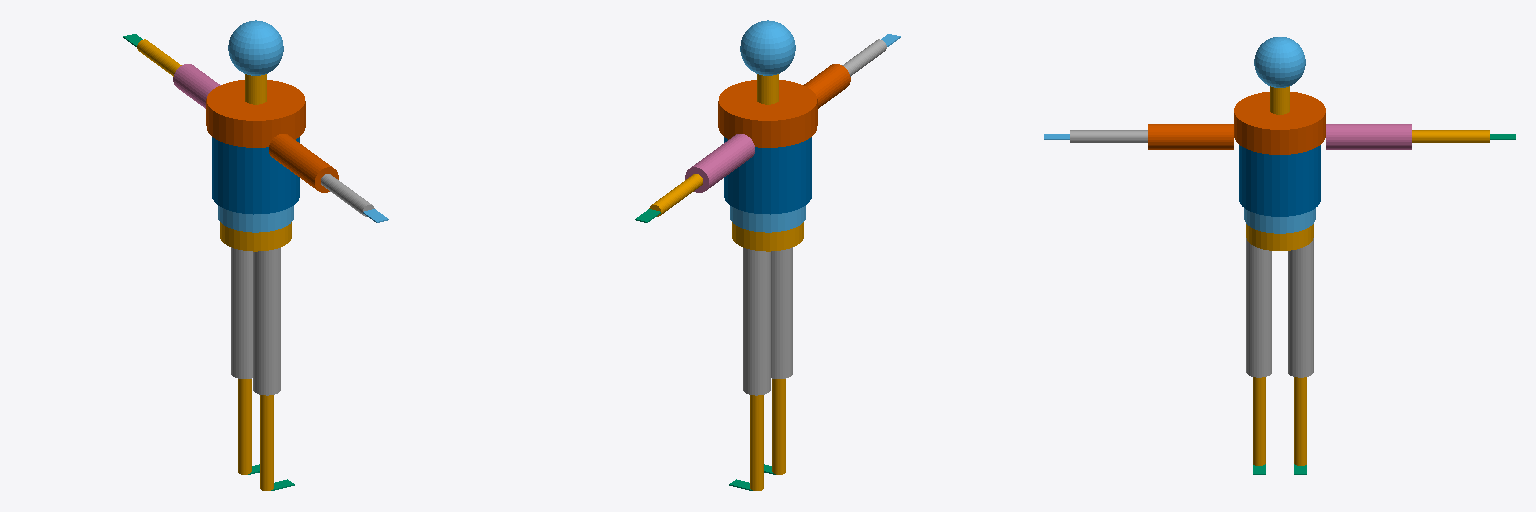
The robot description file, URDF, robot "human_model":
<?xml version="1.0" ?>
<robot name="human_model" xmlns:xacro="http://playerstage.sourceforge.net/gazebo/xmlschema/#interface">
  <link name="base">
    <visual>
      <origin rpy="0 0 0" xyz="0 0 -0.0395543513572"/>
      <geometry>
        <cylinder length="-0.0791087027144" radius="0.129922127451"/>
      </geometry>
    </visual>
  </link>
  <link name="spine_0">
    <visual>
      <origin rpy="0 0 0" xyz="0 0 0.0404433464258"/>
      <geometry>
        <cylinder length="0.0808866928516" radius="0.138218279617"/>
      </geometry>
    </visual>
  </link>
  <link name="spine_1"/>
  <link name="spine_2"/>
  <link name="spine">
    <visual>
      <origin rpy="0 0 0" xyz="0 0 0.136562609847"/>
      <geometry>
        <cylinder length="0.273125219694" radius="0.158218279617"/>
      </geometry>
    </visual>
  </link>
  <link name="shoulder_center">
    <visual>
      <origin rpy="0 0 0" xyz="0 0 0.0535049657415"/>
      <geometry>
        <cylinder length="0.107009931483" radius="0.178218279617"/>
      </geometry>
    </visual>
  </link>
  <link name="neck_0"/>
  <link name="neck_1"/>
  <link name="neck">
    <visual>
      <origin rpy="0 0 0" xyz="0 0 0.102525081104"/>
      <geometry>
        <cylinder length="0.205050162207" radius="0.04"/>
      </geometry>
    </visual>
  </link>
  <link name="head">
    <visual>
      <origin rpy="0 0 0" xyz="0 0 0"/>
      <geometry>
        <sphere radius="0.1"/>
      </geometry>
    </visual>
  </link>
  <joint name="hip" type="fixed">
    <origin rpy="0 0 0" xyz="0 0 0"/>
    <parent link="base"/>
    <child link="spine_0"/>
  </joint>
  <!-- SPINE : spherical -->
  <joint name="spine_0" type="revolute">
    <origin rpy="0 0 0" xyz="0 0 0.0808866928516"/>
    <axis xyz="1 0 0"/>
    <parent link="spine_0"/>
    <child link="spine_1"/>
    <limit effort="1" lower="-1.57079632679" upper="1.57079632679" velocity="1"/>
  </joint>
  <joint name="spine_1" type="revolute">
    <origin rpy="0 0 0" xyz="0 0 0"/>
    <axis xyz="0 1 0"/>
    <parent link="spine_1"/>
    <child link="spine_2"/>
    <limit effort="1" lower="-1.57079632679" upper="1.57079632679" velocity="1"/>
  </joint>
  <joint name="spine_2" type="revolute">
    <origin rpy="0 0 0" xyz="0 0 0"/>
    <axis xyz="0 0 1"/>
    <parent link="spine_2"/>
    <child link="spine"/>
    <limit effort="1" lower="-1.57079632679" upper="1.57079632679" velocity="1"/>
  </joint>
  <joint name="shoulder_center" type="fixed">
    <origin rpy="0 0 0" xyz="0 0 0.273125219694"/>
    <parent link="spine"/>
    <child link="shoulder_center"/>
  </joint>
  <!-- NECK : spherical -->
  <joint name="neck_0" type="revolute">
    <origin rpy="0 0 0" xyz="0 0 0.107009931483"/>
    <axis xyz="1 0 0"/>
    <parent link="shoulder_center"/>
    <child link="neck_0"/>
    <limit effort="1" lower="-1.57079632679" upper="1.57079632679" velocity="1"/>
  </joint>
  <joint name="neck_1" type="revolute">
    <origin rpy="0 0 0" xyz="0 0 0"/>
    <axis xyz="0 1 0"/>
    <parent link="neck_0"/>
    <child link="neck_1"/>
    <limit effort="1" lower="-1.57079632679" upper="1.57079632679" velocity="1"/>
  </joint>
  <joint name="neck_2" type="revolute">
    <origin rpy="0 0 0" xyz="0 0 0"/>
    <axis xyz="0 0 1"/>
    <parent link="neck_1"/>
    <child link="neck"/>
    <limit effort="1" lower="-1.57079632679" upper="1.57079632679" velocity="1"/>
  </joint>
  <!-- END NECK -->
  <joint name="head" type="fixed">
    <origin rpy="0 0 0" xyz="0 0 0.205050162207"/>
    <parent link="neck"/>
    <child link="head"/>
  </joint>
  <link name="right_arm_mount"/>
  <link name="right_shoulder_0"/>
  <link name="right_shoulder_1"/>
  <link name="right_shoulder">
    <visual>
      <origin rpy="0 1.57079632679 0" xyz="0.164978213416 0 0"/>
      <geometry>
        <cylinder length="0.329956426831" radius="0.05"/>
      </geometry>
    </visual>
  </link>
  <link name="right_elbow_0"/>
  <link name="right_elbow">
    <visual>
      <origin rpy="0 1.57079632679 0" xyz="0.150912201952 0 0"/>
      <geometry>
        <cylinder length="0.301824403905" radius="0.025"/>
      </geometry>
    </visual>
  </link>
  <link name="right_wrist_0"/>
  <link name="right_wrist">
    <visual>
      <origin rpy="0 0 0" xyz="0.05 0 0"/>
      <geometry>
        <box size="0.1 0.05 .005"/>
      </geometry>
    </visual>
  </link>
  <link name="right_hand"/>
  <!-- Joints -->
  <joint name="right_arm_mount" type="fixed">
    <origin rpy="0 0 -1.57079632679" xyz="0 -0.178218279617 -0.0054727188148"/>
    <parent link="shoulder_center"/>
    <child link="right_arm_mount"/>
  </joint>
  <!-- SHOULDER : spherical -->
  <joint name="right_shoulder_0" type="revolute">
    <origin rpy="0 0 0" xyz="0 0 0"/>
    <axis xyz="0 1 0"/>
    <parent link="right_arm_mount"/>
    <child link="right_shoulder_0"/>
    <limit effort="1" lower="-1.57079632679" upper="1.57079632679" velocity="1"/>
  </joint>
  <joint name="right_shoulder_1" type="revolute">
    <origin rpy="0 0 0" xyz="0 0 0"/>
    <axis xyz="0 0 1"/>
    <parent link="right_shoulder_0"/>
    <child link="right_shoulder_1"/>
    <limit effort="1" lower="-1.57079632679" upper="2.35619449019" velocity="1"/>
  </joint>
  <joint name="right_shoulder_2" type="revolute">
    <origin rpy="0 0 0" xyz="0 0 0"/>
    <axis xyz="1 0 0"/>
    <parent link="right_shoulder_1"/>
    <child link="right_shoulder"/>
    <limit effort="1" lower="-1.57079632679" upper="1.57079632679" velocity="1"/>
  </joint>
  <!-- END SHOULDER -->
  <joint name="right_elbow_0" type="revolute">
    <origin rpy="0 0 0" xyz="0.329956426831 0 0"/>
    <axis xyz="0 0 1"/>
    <parent link="right_shoulder"/>
    <child link="right_elbow_0"/>
    <limit effort="1" lower="0.0" upper="3.14159265359" velocity="1"/>
  </joint>
  <joint name="right_elbow_1" type="revolute">
    <origin rpy="0 0 0" xyz="0 0 0"/>
    <axis xyz="1 0 0"/>
    <parent link="right_elbow_0"/>
    <child link="right_elbow"/>
    <limit effort="1" lower="0.0" upper="3.14159265359" velocity="1"/>
  </joint>
  <joint name="right_wrist_0" type="revolute">
    <origin rpy="0 0 0" xyz="0.301824403905 0 0"/>
    <axis xyz="0 0 1"/>
    <parent link="right_elbow"/>
    <child link="right_wrist_0"/>
    <limit effort="1" lower="-0.78539816339" upper="0.78539816339" velocity="1"/>
  </joint>
  <joint name="right_wrist_1" type="revolute">
    <origin rpy="0 0 0" xyz="0 0 0"/>
    <axis xyz="0 1 0"/>
    <parent link="right_wrist_0"/>
    <child link="right_wrist"/>
    <limit effort="1" lower="-1.57079632679" upper="1.57079632679" velocity="1"/>
  </joint>
  <joint name="right_hand" type="fixed">
    <origin rpy="0 0 0" xyz="0.1 0 0"/>
    <parent link="right_wrist"/>
    <child link="right_hand"/>
  </joint>
  <link name="left_arm_mount"/>
  <link name="left_shoulder_0"/>
  <link name="left_shoulder_1"/>
  <link name="left_shoulder">
    <visual>
      <origin rpy="0 1.57079632679 0" xyz="0.164978213416 0 0"/>
      <geometry>
        <cylinder length="0.329956426831" radius="0.05"/>
      </geometry>
    </visual>
  </link>
  <link name="left_elbow_0"/>
  <link name="left_elbow">
    <visual>
      <origin rpy="0 1.57079632679 0" xyz="0.150912201952 0 0"/>
      <geometry>
        <cylinder length="0.301824403905" radius="0.025"/>
      </geometry>
    </visual>
  </link>
  <link name="left_wrist_0"/>
  <link name="left_wrist">
    <visual>
      <origin rpy="0 0 0" xyz="0.05 0 0"/>
      <geometry>
        <box size="0.1 0.05 .005"/>
      </geometry>
    </visual>
  </link>
  <link name="left_hand"/>
  <!-- Joints -->
  <joint name="left_arm_mount" type="fixed">
    <origin rpy="0 0 1.57079632679" xyz="0 0.178218279617 -0.0054727188148"/>
    <parent link="shoulder_center"/>
    <child link="left_arm_mount"/>
  </joint>
  <!-- SHOULDER : spherical -->
  <joint name="left_shoulder_0" type="revolute">
    <origin rpy="0 0 0" xyz="0 0 0"/>
    <axis xyz="0 1 0"/>
    <parent link="left_arm_mount"/>
    <child link="left_shoulder_0"/>
    <limit effort="1" lower="-1.57079632679" upper="1.57079632679" velocity="1"/>
  </joint>
  <joint name="left_shoulder_1" type="revolute">
    <origin rpy="0 0 0" xyz="0 0 0"/>
    <axis xyz="0 0 1"/>
    <parent link="left_shoulder_0"/>
    <child link="left_shoulder_1"/>
    <limit effort="1" lower="-2.35619449019" upper="1.57079632679" velocity="1"/>
  </joint>
  <joint name="left_shoulder_2" type="revolute">
    <origin rpy="0 0 0" xyz="0 0 0"/>
    <axis xyz="1 0 0"/>
    <parent link="left_shoulder_1"/>
    <child link="left_shoulder"/>
    <limit effort="1" lower="-1.57079632679" upper="1.57079632679" velocity="1"/>
  </joint>
  <!-- END SHOULDER -->
  <joint name="left_elbow_0" type="revolute">
    <origin rpy="0 0 0" xyz="0.329956426831 0 0"/>
    <axis xyz="0 0 1"/>
    <parent link="left_shoulder"/>
    <child link="left_elbow_0"/>
    <limit effort="1" lower="-3.14159265359" upper="0.0" velocity="1"/>
  </joint>
  <joint name="left_elbow_1" type="revolute">
    <origin rpy="0 0 0" xyz="0 0 0"/>
    <axis xyz="1 0 0"/>
    <parent link="left_elbow_0"/>
    <child link="left_elbow"/>
    <limit effort="1" lower="-3.14159265359" upper="0.0" velocity="1"/>
  </joint>
  <joint name="left_wrist_0" type="revolute">
    <origin rpy="0 0 0" xyz="0.301824403905 0 0"/>
    <axis xyz="0 0 1"/>
    <parent link="left_elbow"/>
    <child link="left_wrist_0"/>
    <limit effort="1" lower="-0.78539816339" upper="0.78539816339" velocity="1"/>
  </joint>
  <joint name="left_wrist_1" type="revolute">
    <origin rpy="0 0 0" xyz="0 0 0"/>
    <axis xyz="0 1 0"/>
    <parent link="left_wrist_0"/>
    <child link="left_wrist"/>
    <limit effort="1" lower="-1.57079632679" upper="1.57079632679" velocity="1"/>
  </joint>
  <joint name="left_hand" type="fixed">
    <origin rpy="0 0 0" xyz="0.1 0 0"/>
    <parent link="left_wrist"/>
    <child link="left_hand"/>
  </joint>
  <link name="right_leg_mount"/>
  <link name="right_hip_0"/>
  <link name="right_hip_1"/>
  <link name="right_hip">
    <visual>
      <origin rpy="0 1.57079632679 0" xyz="0.287785116106 0 0"/>
      <geometry>
        <cylinder length="0.575570232213" radius="0.05"/>
      </geometry>
    </visual>
  </link>
  <link name="right_knee">
    <visual>
      <origin rpy="0 1.57079632679 0" xyz="0.19552901132 0 0"/>
      <geometry>
        <cylinder length="0.391058022639" radius="0.025"/>
      </geometry>
    </visual>
  </link>
  <link name="right_ankle_0"/>
  <link name="right_ankle">
    <visual>
      <origin rpy="0 0 0" xyz="0.05 0 0"/>
      <geometry>
        <box size="0.1 0.05 .005"/>
      </geometry>
    </visual>
  </link>
  <link name="right_foot"/>
  <!-- Joints -->
  <joint name="right_hip_leg_mount" type="fixed">
    <origin rpy="0 1.57079632679 0" xyz="0 -0.0799221274511 -0.0791087027144"/>
    <parent link="base"/>
    <child link="right_leg_mount"/>
  </joint>
  <!-- hip : spherical -->
  <joint name="right_hip_0" type="revolute">
    <origin rpy="0 0 0" xyz="0 0 0"/>
    <axis xyz="0 0 1"/>
    <parent link="right_leg_mount"/>
    <child link="right_hip_0"/>
    <limit effort="1" lower="-1.57079632679" upper="1.57079632679" velocity="1"/>
  </joint>
  <joint name="right_hip_1" type="revolute">
    <origin rpy="0 0 0" xyz="0 0 0"/>
    <axis xyz="0 1 0"/>
    <parent link="right_hip_0"/>
    <child link="right_hip_1"/>
    <limit effort="1" lower="-1.57079632679" upper="1.57079632679" velocity="1"/>
  </joint>
  <joint name="right_hip_2" type="revolute">
    <origin rpy="0 0 0" xyz="0 0 0"/>
    <axis xyz="1 0 0"/>
    <parent link="right_hip_1"/>
    <child link="right_hip"/>
    <limit effort="1" lower="-1.57079632679" upper="1.57079632679" velocity="1"/>
  </joint>
  <!-- END hip -->
  <joint name="right_knee" type="revolute">
    <origin rpy="1.57079632679 0 0" xyz="0.575570232213 0 0"/>
    <axis xyz="0 0 1"/>
    <parent link="right_hip"/>
    <child link="right_knee"/>
    <limit effort="1" lower="-3.14159265359" upper="0.1" velocity="1"/>
  </joint>
  <!-- ankle : spherical -->
  <joint name="right_ankle_0" type="revolute">
    <origin rpy="-1.57079632679 0 1.57079632679" xyz="0.391058022639 0 0"/>
    <axis xyz="0 0 1"/>
    <parent link="right_knee"/>
    <child link="right_ankle_0"/>
    <limit effort="1" lower="-1.57079632679" upper="1.57079632679" velocity="1"/>
  </joint>
  <joint name="right_ankle_1" type="revolute">
    <origin rpy="0 0 0" xyz="0 0 0"/>
    <axis xyz="0 1 0"/>
    <parent link="right_ankle_0"/>
    <child link="right_ankle"/>
    <limit effort="1" lower="-1.57079632679" upper="1.57079632679" velocity="1"/>
  </joint>
  <!-- END ankle -->
  <joint name="right_foot" type="fixed">
    <origin rpy="0 0 0" xyz="0.1 0 0"/>
    <parent link="right_ankle"/>
    <child link="right_foot"/>
  </joint>
  <link name="left_leg_mount"/>
  <link name="left_hip_0"/>
  <link name="left_hip_1"/>
  <link name="left_hip">
    <visual>
      <origin rpy="0 1.57079632679 0" xyz="0.287785116106 0 0"/>
      <geometry>
        <cylinder length="0.575570232213" radius="0.05"/>
      </geometry>
    </visual>
  </link>
  <link name="left_knee">
    <visual>
      <origin rpy="0 1.57079632679 0" xyz="0.19552901132 0 0"/>
      <geometry>
        <cylinder length="0.391058022639" radius="0.025"/>
      </geometry>
    </visual>
  </link>
  <link name="left_ankle_0"/>
  <link name="left_ankle">
    <visual>
      <origin rpy="0 0 0" xyz="0.05 0 0"/>
      <geometry>
        <box size="0.1 0.05 .005"/>
      </geometry>
    </visual>
  </link>
  <link name="left_foot"/>
  <!-- Joints -->
  <joint name="left_hip_leg_mount" type="fixed">
    <origin rpy="0 1.57079632679 0" xyz="0 0.0799221274511 -0.0791087027144"/>
    <parent link="base"/>
    <child link="left_leg_mount"/>
  </joint>
  <!-- hip : spherical -->
  <joint name="left_hip_0" type="revolute">
    <origin rpy="0 0 0" xyz="0 0 0"/>
    <axis xyz="0 0 1"/>
    <parent link="left_leg_mount"/>
    <child link="left_hip_0"/>
    <limit effort="1" lower="-1.57079632679" upper="1.57079632679" velocity="1"/>
  </joint>
  <joint name="left_hip_1" type="revolute">
    <origin rpy="0 0 0" xyz="0 0 0"/>
    <axis xyz="0 1 0"/>
    <parent link="left_hip_0"/>
    <child link="left_hip_1"/>
    <limit effort="1" lower="-1.57079632679" upper="1.57079632679" velocity="1"/>
  </joint>
  <joint name="left_hip_2" type="revolute">
    <origin rpy="0 0 0" xyz="0 0 0"/>
    <axis xyz="1 0 0"/>
    <parent link="left_hip_1"/>
    <child link="left_hip"/>
    <limit effort="1" lower="-1.57079632679" upper="1.57079632679" velocity="1"/>
  </joint>
  <!-- END hip -->
  <joint name="left_knee" type="revolute">
    <origin rpy="1.57079632679 0 0" xyz="0.575570232213 0 0"/>
    <axis xyz="0 0 1"/>
    <parent link="left_hip"/>
    <child link="left_knee"/>
    <limit effort="1" lower="-3.14159265359" upper="0.1" velocity="1"/>
  </joint>
  <!-- ankle : spherical -->
  <joint name="left_ankle_0" type="revolute">
    <origin rpy="-1.57079632679 0 1.57079632679" xyz="0.391058022639 0 0"/>
    <axis xyz="0 0 1"/>
    <parent link="left_knee"/>
    <child link="left_ankle_0"/>
    <limit effort="1" lower="-1.57079632679" upper="1.57079632679" velocity="1"/>
  </joint>
  <joint name="left_ankle_1" type="revolute">
    <origin rpy="0 0 0" xyz="0 0 0"/>
    <axis xyz="0 1 0"/>
    <parent link="left_ankle_0"/>
    <child link="left_ankle"/>
    <limit effort="1" lower="-1.57079632679" upper="1.57079632679" velocity="1"/>
  </joint>
  <!-- END ankle -->
  <joint name="left_foot" type="fixed">
    <origin rpy="0 0 0" xyz="0.1 0 0"/>
    <parent link="left_ankle"/>
    <child link="left_foot"/>
  </joint>
</robot>

--- What the picture shows (computed from the rendered views, not written in the file) ---
The picture shows the robot from 3 angles, left to right: view 1: azimuth 30°, elevation 25°; view 2: azimuth 150°, elevation 25°; view 3: azimuth 270°, elevation 25°; orthographic projection.
Robot: human_model — 44 links, 43 joints (32 revolute, 11 fixed); root link base; default pose: every joint at zero.
Visible links, largest first — view 1: shoulder_center, spine, right_hip, left_hip, head, right_shoulder, base, right_knee, left_knee, spine_0, left_shoulder, right_elbow (+2 smaller); view 2: shoulder_center, spine, left_hip, right_hip, head, left_shoulder, base, left_knee, right_knee, spine_0, right_shoulder, left_elbow (+2 smaller); view 3: spine, shoulder_center, right_hip, left_hip, right_shoulder, left_shoulder, head, base, spine_0, right_knee, left_knee, right_elbow (+2 smaller).
Boxes of the visible links, box(x1,y1,x2,y2) form: shoulder_center: box(206, 80, 305, 147); spine: box(212, 137, 299, 214); right_hip: box(253, 248, 280, 395); left_hip: box(231, 247, 252, 378); head: box(228, 20, 283, 75); right_shoulder: box(269, 134, 338, 192); base: box(220, 222, 291, 251); right_knee: box(260, 395, 273, 490); left_knee: box(238, 379, 251, 474); spine_0: box(218, 206, 293, 232); left_shoulder: box(173, 64, 220, 108); right_elbow: box(321, 174, 374, 216); shoulder_center: box(718, 80, 817, 147); spine: box(724, 137, 811, 214); left_hip: box(743, 248, 770, 395); right_hip: box(771, 247, 792, 378); head: box(740, 20, 795, 75); left_shoulder: box(685, 134, 754, 192); base: box(732, 222, 803, 251); left_knee: box(750, 395, 763, 490); right_knee: box(772, 379, 785, 474); spine_0: box(730, 206, 805, 232); right_shoulder: box(803, 64, 850, 108); left_elbow: box(649, 174, 702, 216); spine: box(1239, 145, 1320, 216); shoulder_center: box(1234, 92, 1325, 154); right_hip: box(1246, 238, 1271, 377); left_hip: box(1288, 238, 1313, 377); right_shoulder: box(1148, 124, 1233, 149); left_shoulder: box(1326, 124, 1411, 149); head: box(1254, 37, 1305, 87); base: box(1246, 224, 1313, 250); spine_0: box(1244, 208, 1315, 233); right_knee: box(1253, 377, 1265, 465); left_knee: box(1294, 377, 1306, 465); right_elbow: box(1070, 130, 1147, 142).
Bounding box of the posed robot: 0.3564 × 1.82 × 1.81 m (x, y, z).
Geometry: primitives only (box / cylinder / sphere), no mesh files.
